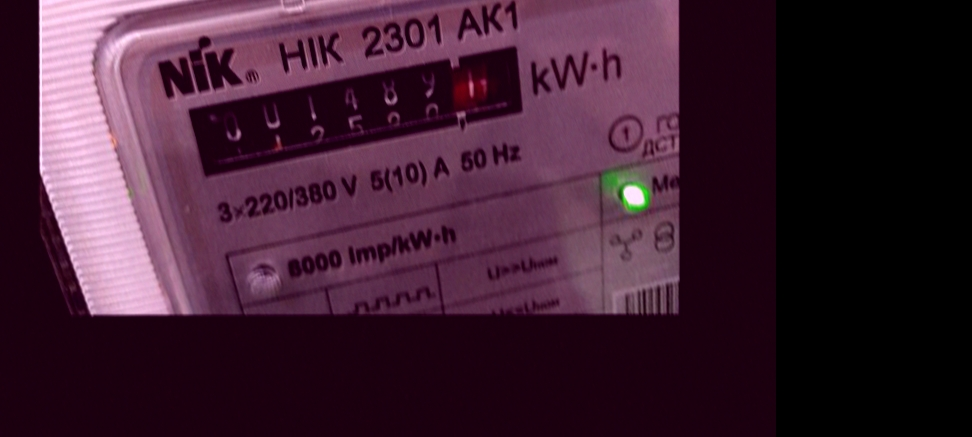0: (258, 96, 284, 132), (220, 110, 244, 145)
1: (461, 63, 480, 101), (302, 92, 322, 123)
4: (340, 81, 362, 113)
8: (380, 73, 401, 109)
9: (419, 67, 439, 99)
screen: (177, 37, 552, 189)
